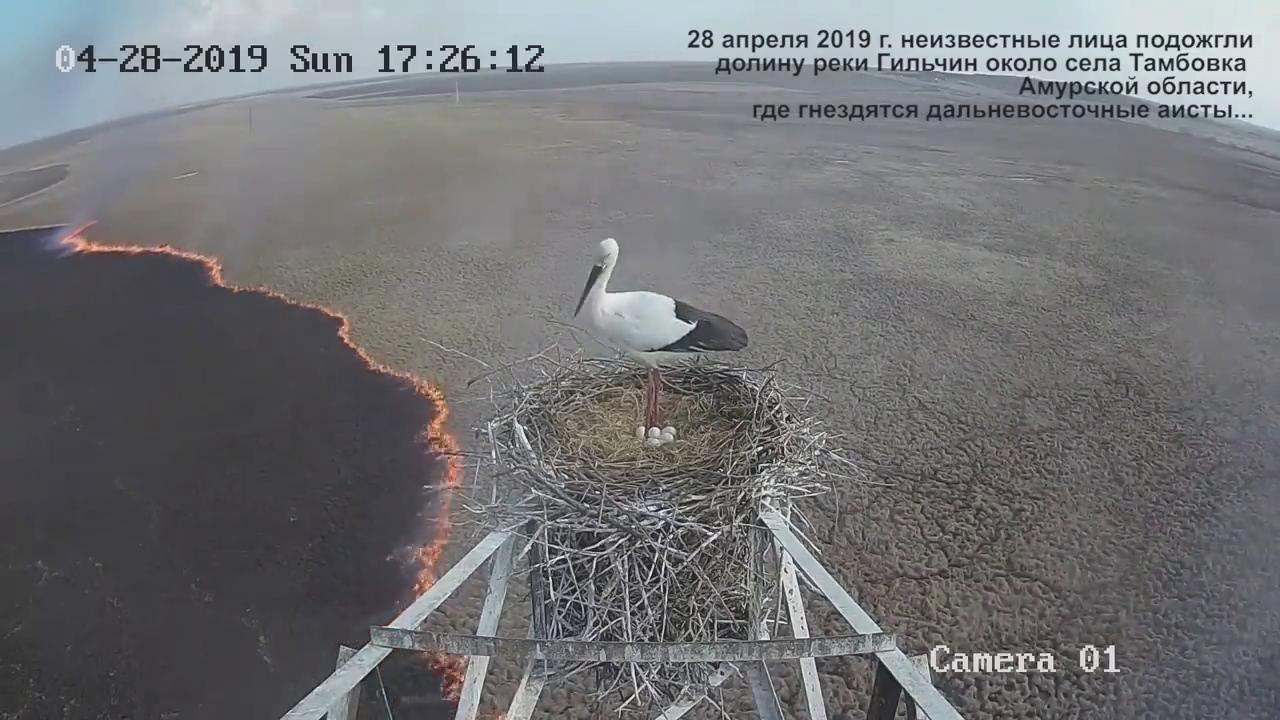fire: (282, 297, 444, 429), (68, 220, 276, 294), (404, 431, 466, 590)
